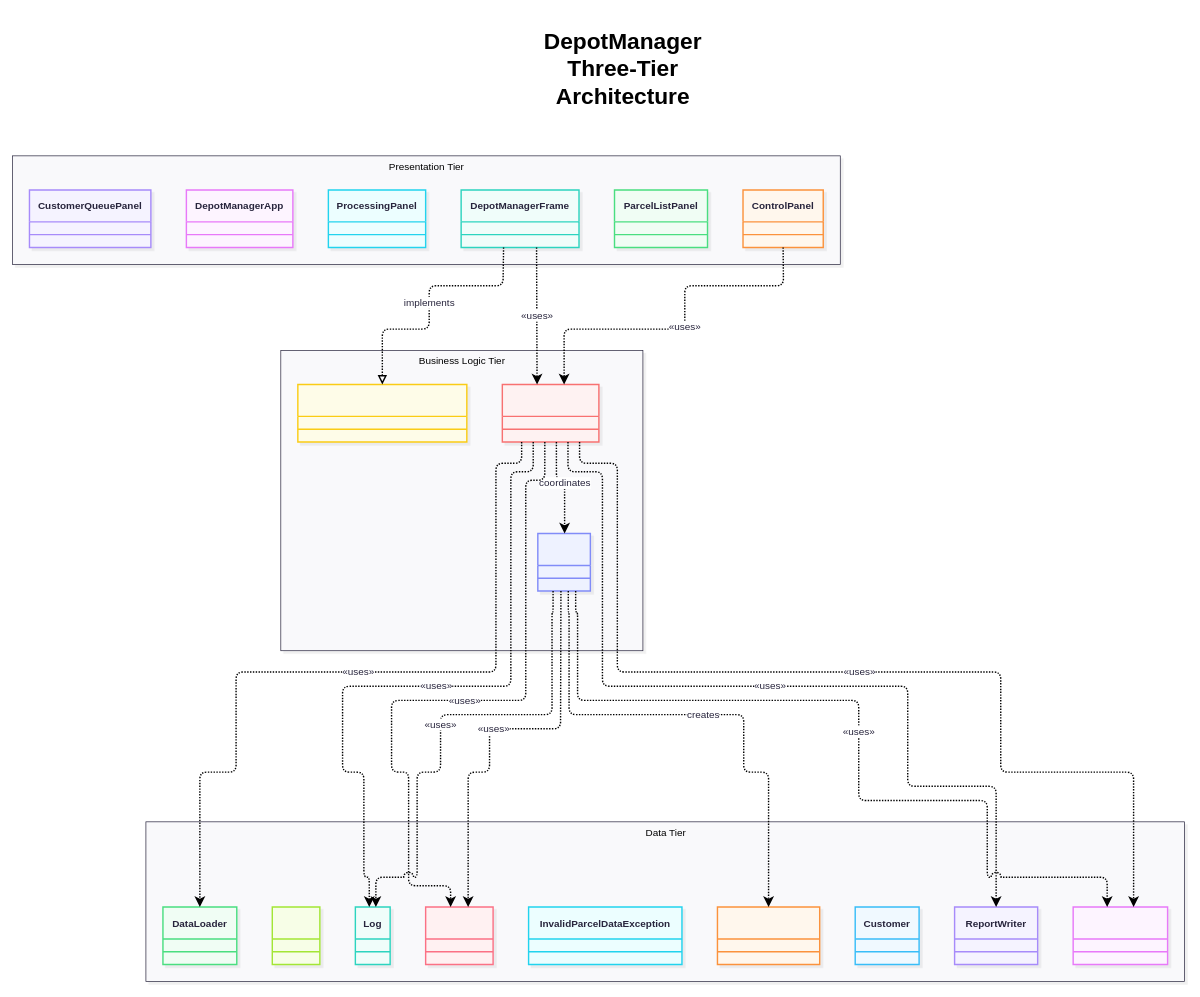
Some shapes in this 1200 by 997 pixel diagram are drawn without their labels. The shapes that lost their labels are listed below. From the top down, each one's centre as x and y in pixels, then its label:
At [383,414]: "DepotController.DepotListener".
At [551,414]: "DepotController".
At [565,563]: "Worker".
At [297,937]: "Parcel".
At [460,937]: "ParcelMap".
At [769,937]: "ProcessingResult".
At [1121,937]: "CustomerQueue".
